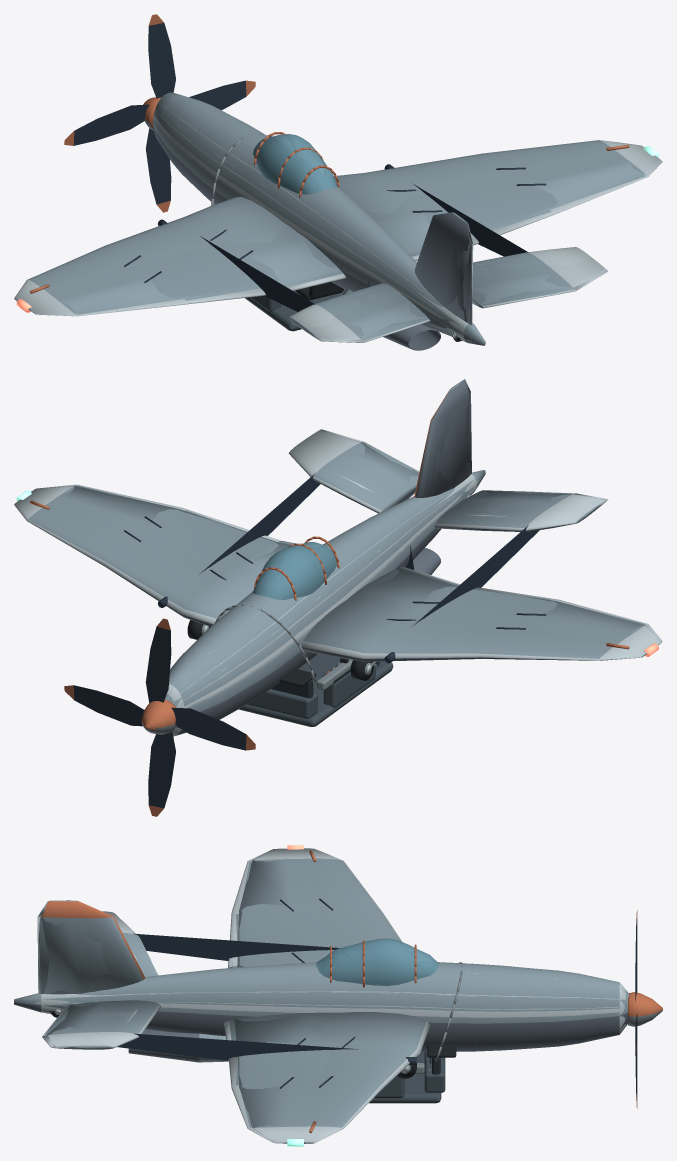
The picture shows the model from 3 angles, top to bottom: view 1: azimuth 30°, elevation 25°; view 2: azimuth 150°, elevation 25°; view 3: azimuth 270°, elevation 25°; orthographic projection. The views are drawn at different scales.
Parts seen in each view (by area): view 1: Airframe shell mesh, Airframe shell.002 mesh, Airframe shell.001 mesh, Forward fuselage, Port wing, Starboard wing, Central fuselage, Canopy glass, Aft nacelles, Canopy glass.001, Cockpit shell mesh, Hinged Aileron (+2 smaller); view 2: Airframe shell mesh, Airframe shell.002 mesh, Airframe shell.001 mesh, Prop_0 mesh, Cockpit shell mesh, Port wing, Starboard wing, Central fuselage, Canopy glass, Aft nacelles, Canopy glass.001, Forward fuselage (+1 smaller); view 3: Airframe shell mesh, Airframe shell.002 mesh, Airframe shell.001 mesh, Starboard wing, Port wing, Central fuselage, Canopy glass, Cockpit shell mesh, Canopy glass.001, Aft nacelles, Forward fuselage, Spinner (+2 smaller).
Boxes of the visible parts, x1,y1,x2,y2 form: Airframe shell mesh: [14, 92, 658, 350]; Airframe shell.002 mesh: [16, 107, 661, 350]; Airframe shell.001 mesh: [15, 93, 662, 348]; Forward fuselage: [64, 14, 255, 212]; Port wing: [17, 236, 359, 340]; Starboard wing: [412, 156, 658, 286]; Central fuselage: [217, 132, 473, 288]; Canopy glass: [253, 134, 337, 194]; Aft nacelles: [335, 212, 573, 350]; Canopy glass.001: [253, 134, 336, 193]; Cockpit shell mesh: [211, 134, 344, 331]; Hinged Aileron: [31, 289, 265, 316]; Airframe shell mesh: [14, 386, 658, 736]; Airframe shell.002 mesh: [34, 380, 661, 735]; Airframe shell.001 mesh: [27, 379, 662, 735]; Prop_0 mesh: [64, 618, 255, 816]; Cockpit shell mesh: [215, 604, 393, 726]; Port wing: [402, 494, 658, 659]; Starboard wing: [31, 430, 359, 574]; Central fuselage: [217, 512, 459, 685]; Canopy glass: [253, 542, 336, 600]; Aft nacelles: [335, 379, 573, 574]; Canopy glass.001: [253, 542, 335, 599]; Forward fuselage: [71, 607, 284, 810]; Airframe shell mesh: [14, 845, 627, 1146]; Airframe shell.002 mesh: [14, 849, 628, 1142]; Airframe shell.001 mesh: [14, 848, 624, 1143]; Starboard wing: [48, 1032, 357, 1142]; Port wing: [133, 848, 339, 960]; Central fuselage: [195, 938, 462, 1061]; Canopy glass: [317, 938, 438, 986]; Cockpit shell mesh: [369, 962, 462, 1103]; Canopy glass.001: [318, 938, 436, 985]; Aft nacelles: [35, 900, 195, 1061]; Forward fuselage: [462, 925, 654, 1108]; Spinner: [628, 992, 662, 1026].
Bounding box in the file's own units: 11.41 × 3.68 × 10.53.
